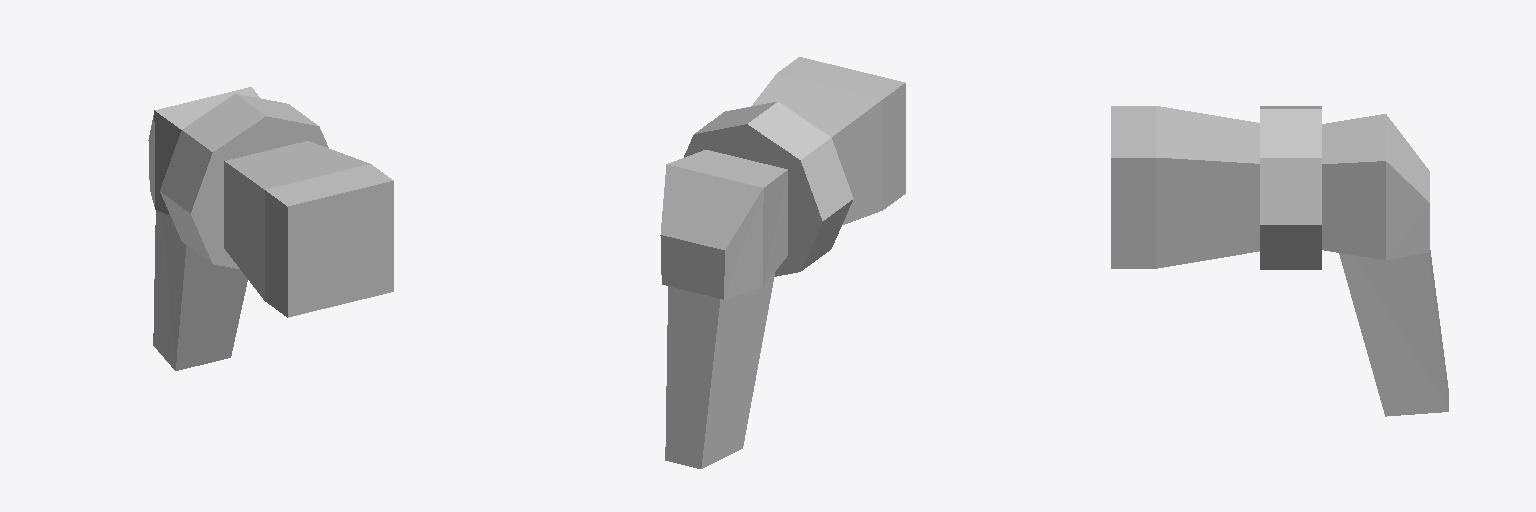
Rendered from Revolver.obj.
The picture shows the model from 3 angles: view 1: azimuth 30°, elevation 25°; view 2: azimuth 150°, elevation 25°; view 3: azimuth 270°, elevation 25°; orthographic projection.
Visible parts, largest first — view 1: Revolver; view 2: Revolver; view 3: Revolver.
Part boxes in pixels (x1,y1,x2,y2): Revolver: (148, 87, 393, 370); Revolver: (660, 57, 905, 468); Revolver: (1111, 106, 1448, 416).
Size of the model in its own units: 0.8656 by 1.61 by 1.68.